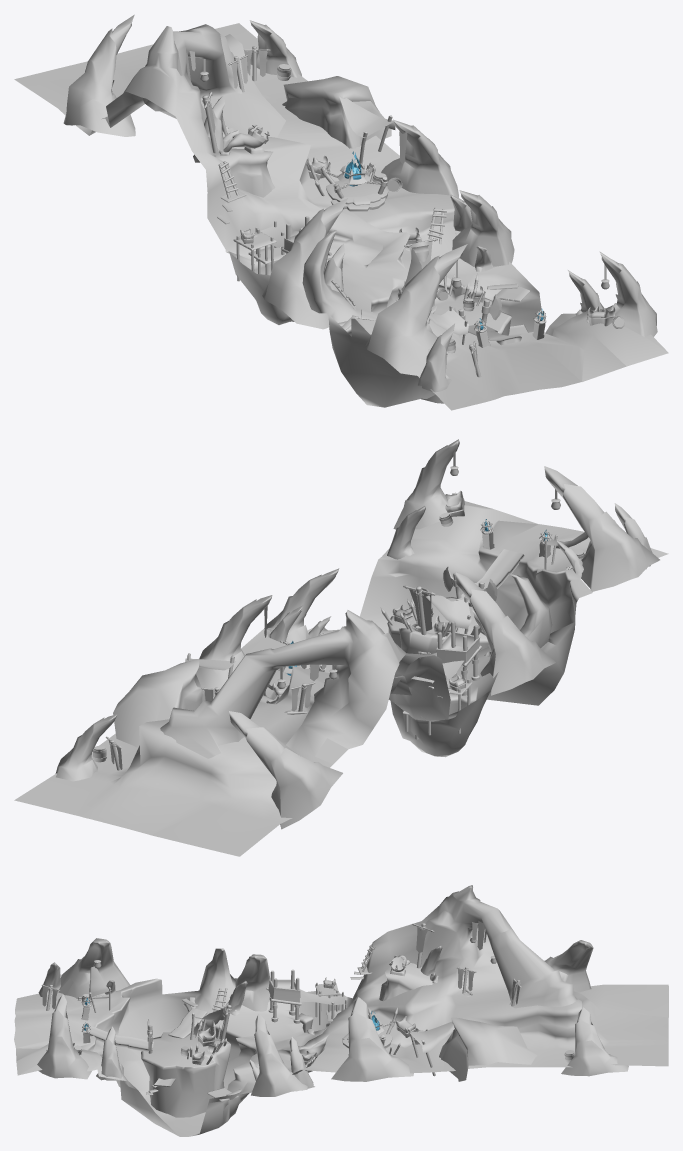
Rendered from sands location.obj.
The picture shows the model from 3 angles, top to bottom: view 1: azimuth 30°, elevation 25°; view 2: azimuth 150°, elevation 25°; view 3: azimuth 270°, elevation 25°; orthographic projection. The views are drawn at different scales.
Parts seen in each view (by area): view 1: polySurface1; view 2: polySurface1; view 3: polySurface1.
Part boxes in pixels (box(x1,y1,x2,y2)): polySurface1: box(14, 14, 668, 410); polySurface1: box(14, 439, 668, 856); polySurface1: box(14, 885, 668, 1136).
Bounding box in the file's own units: 25.95 × 21.96 × 72.28.
